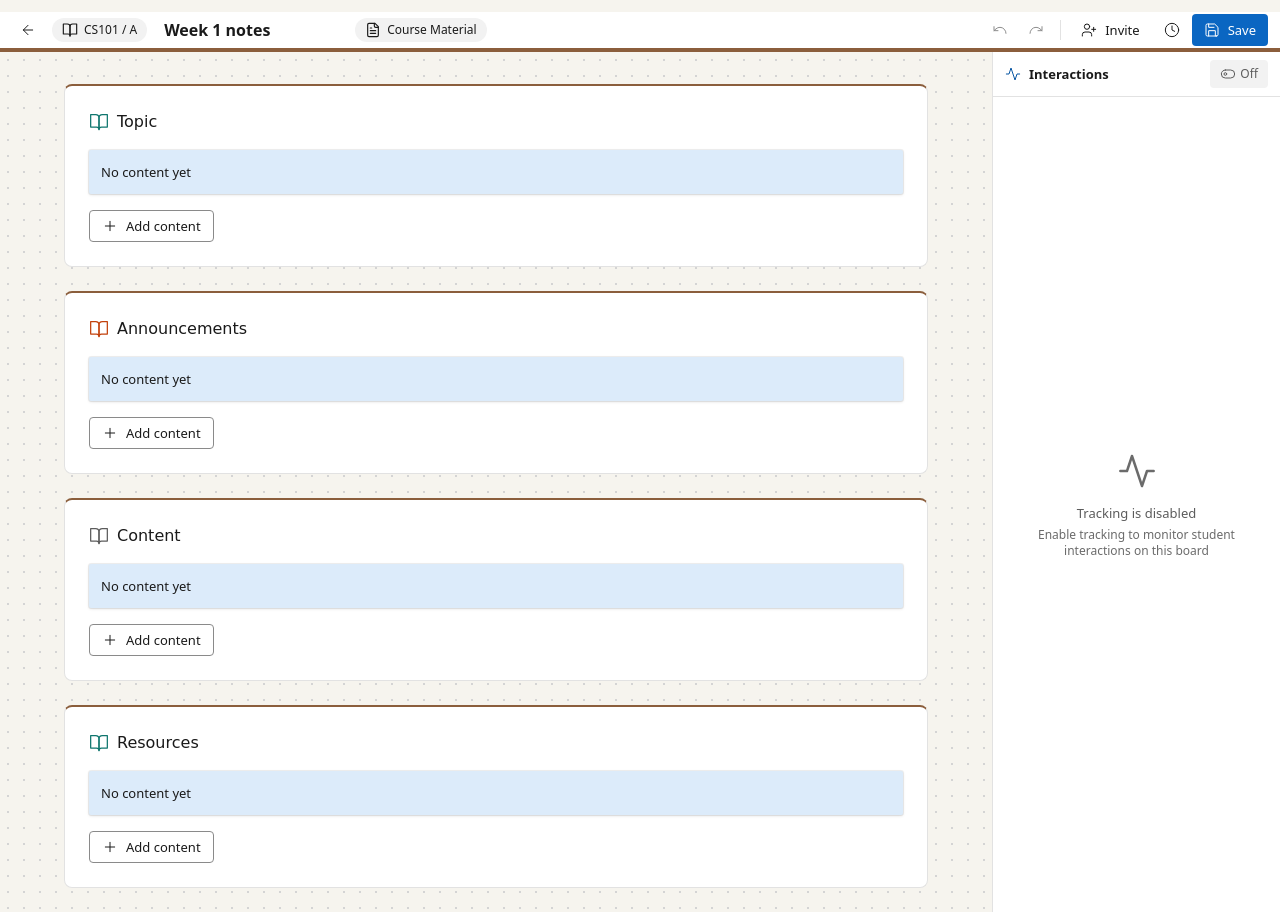
WorkspacePage › the Save button sends the board to the API and then shows Saved as text
Expected: the field named "Board name" is shown, [155,14,347,46]
Step 1. Click the button "Save" → (1230, 30), box [1192,14,1268,46]
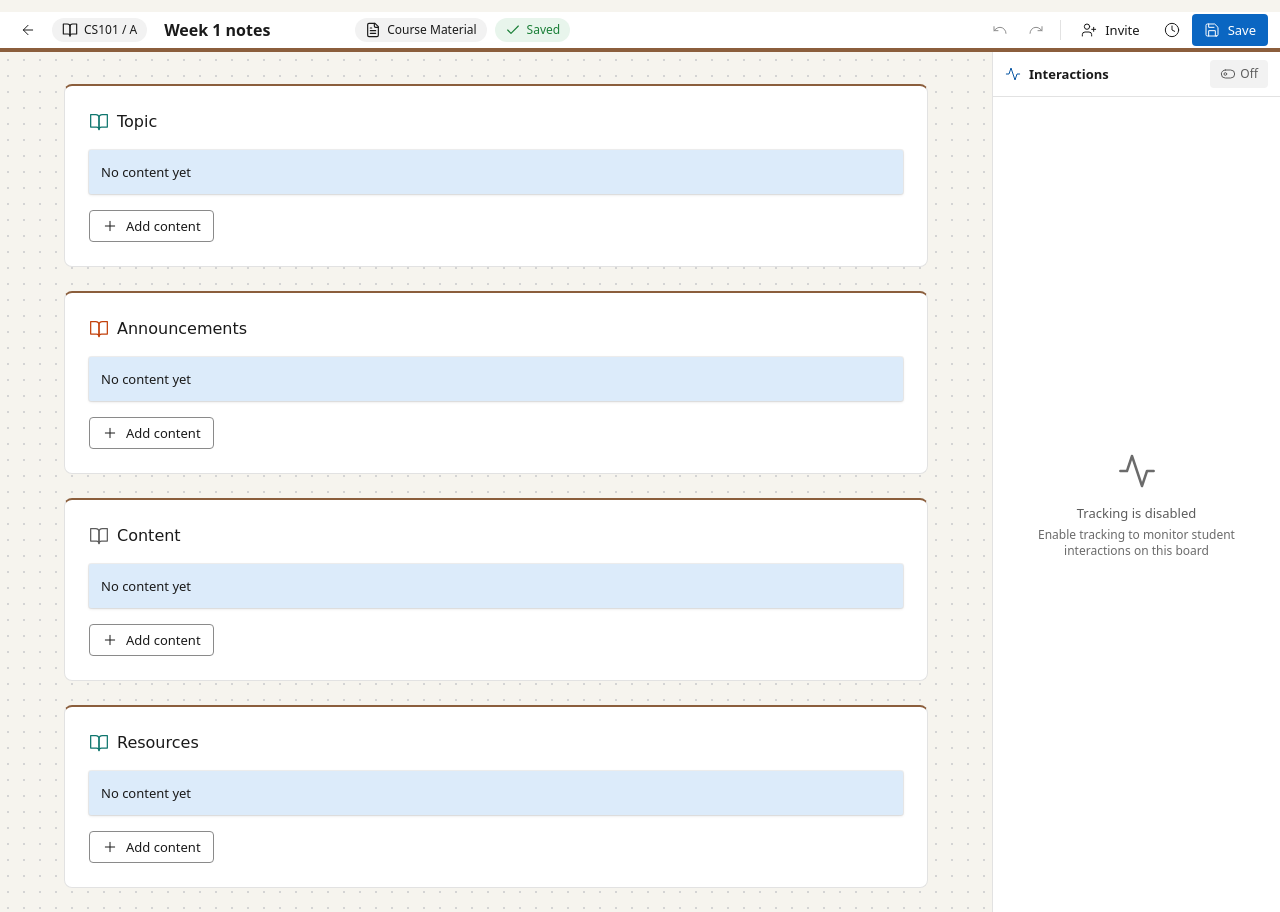
Now the text "Saved" is shown, box [527,22,560,38]
